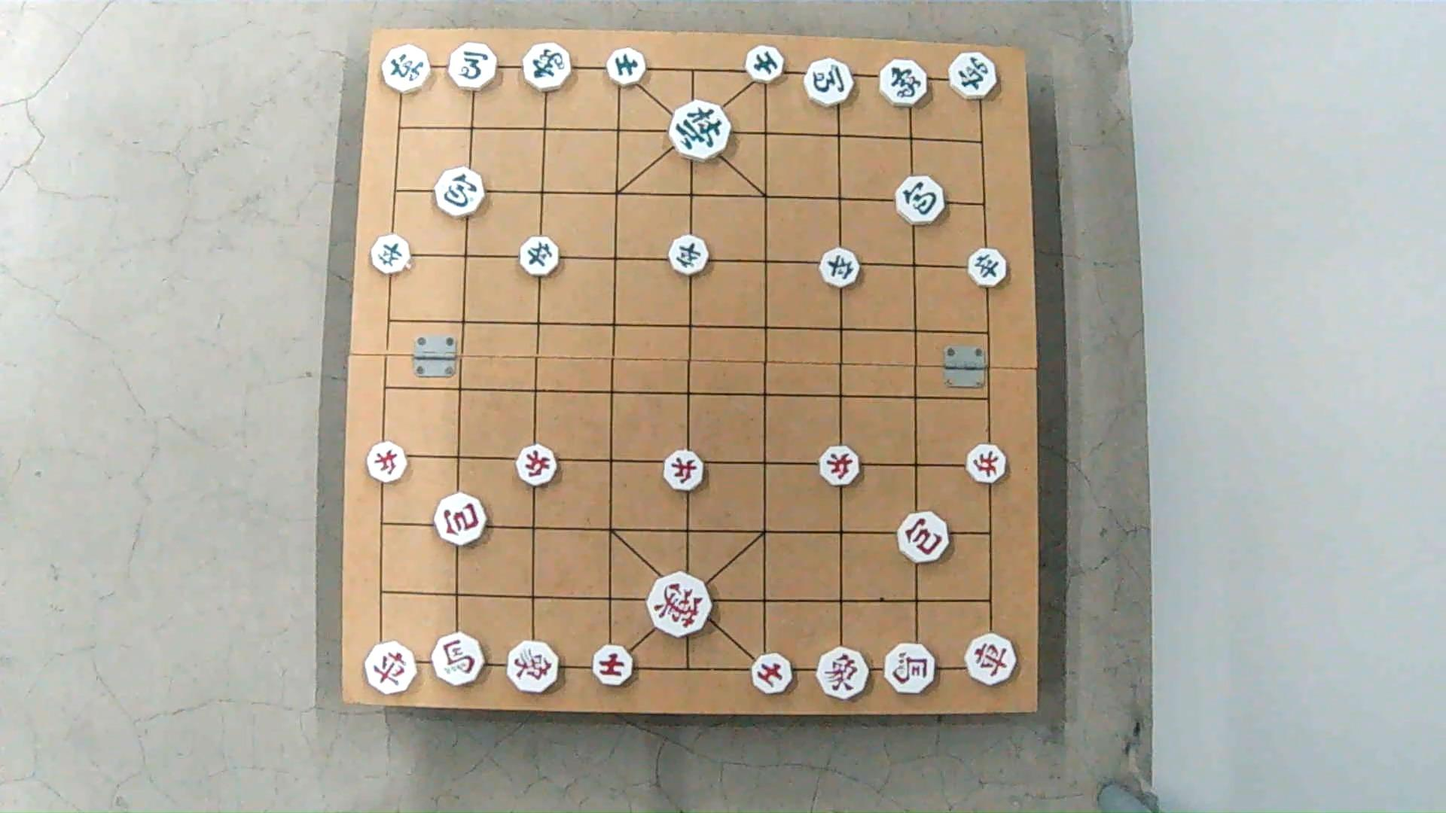cha_green: (379, 44, 430, 95), (949, 53, 996, 97)
cha_red: (362, 639, 419, 698), (965, 635, 1016, 686)
jol_green: (817, 249, 859, 288), (521, 239, 562, 277), (370, 238, 412, 275), (666, 236, 707, 273), (966, 250, 1007, 287)
jol_red: (518, 446, 561, 486), (660, 450, 702, 490), (367, 443, 410, 482), (817, 446, 860, 485), (963, 443, 1005, 482)
ma_green: (803, 58, 858, 105), (447, 45, 499, 90)
ma_red: (884, 642, 938, 695), (430, 635, 484, 686)
po_green: (436, 165, 487, 218), (896, 175, 944, 224)
po_red: (900, 512, 953, 562), (436, 496, 489, 546)
sa_green: (607, 48, 648, 84), (746, 46, 788, 81)
sa_red: (590, 644, 635, 685), (749, 653, 795, 693)
sang_green: (520, 43, 575, 91), (879, 58, 929, 110)
sang_red: (816, 647, 874, 700), (504, 639, 562, 690)
wang_green: (669, 104, 734, 160)
wang_red: (647, 577, 712, 637)
